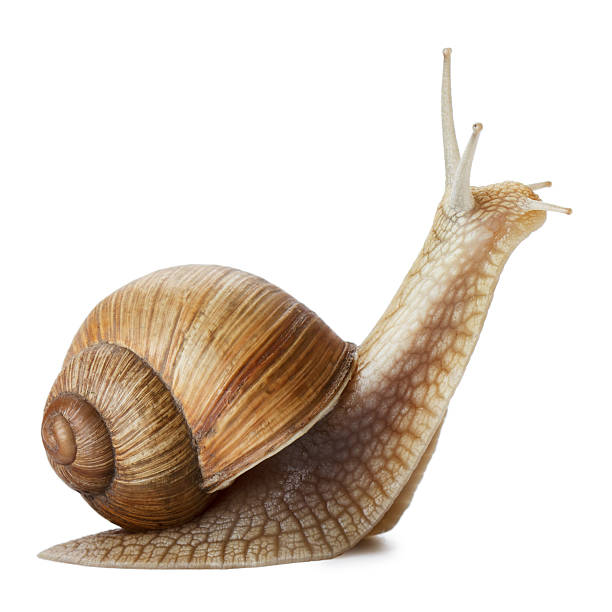snail: (34, 43, 561, 570)
